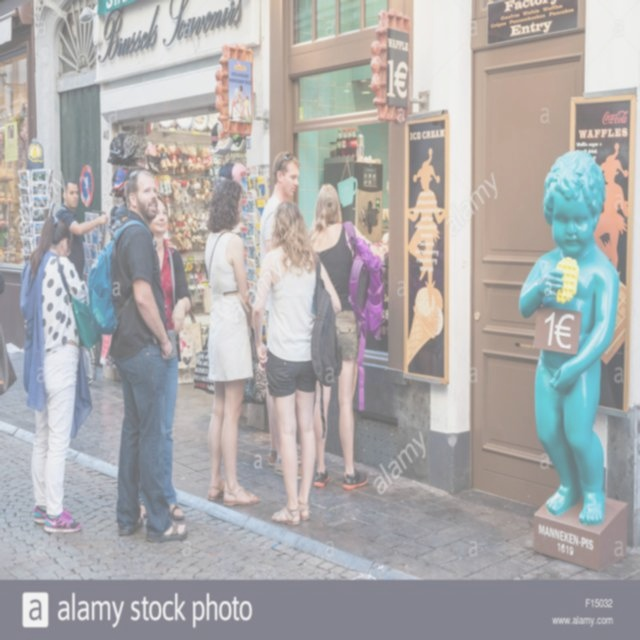pessoa: (514, 135, 630, 528), (102, 166, 190, 542), (251, 198, 343, 528), (310, 178, 386, 490), (23, 213, 89, 533), (203, 178, 262, 507), (258, 149, 302, 482), (148, 189, 192, 521), (403, 146, 452, 310), (54, 178, 109, 282), (229, 82, 251, 126), (0, 270, 7, 294)
